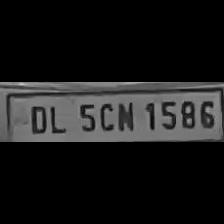1: (139, 99, 157, 133)
5: (74, 100, 98, 134), (157, 98, 177, 132)
6: (196, 96, 216, 130)
8: (178, 97, 196, 131)
C: (96, 100, 116, 132)
D: (25, 103, 49, 135)
L: (47, 101, 69, 135)
N: (115, 99, 137, 133)
